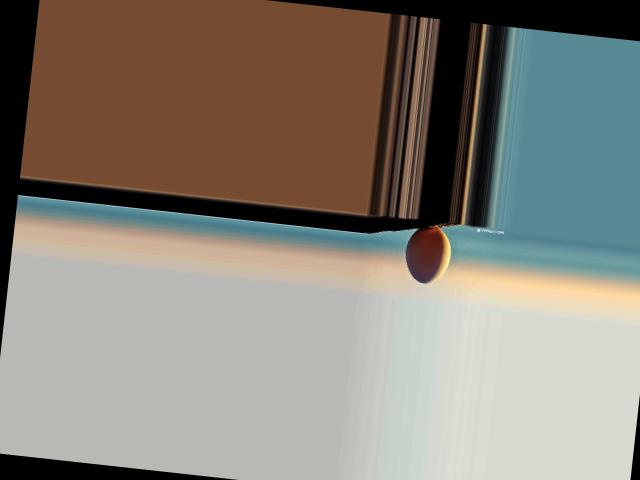egg: (402, 224, 454, 286)
